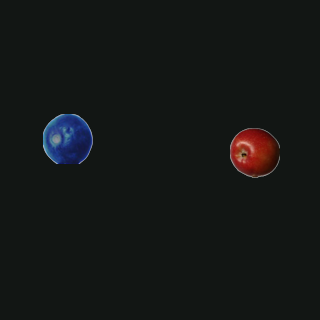Apple Braeburn: (229, 127, 279, 177)
Huckleberry: (42, 113, 92, 163)
